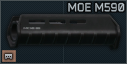M590A1 Magpul MOE forestock: (0, 0, 127, 64)
